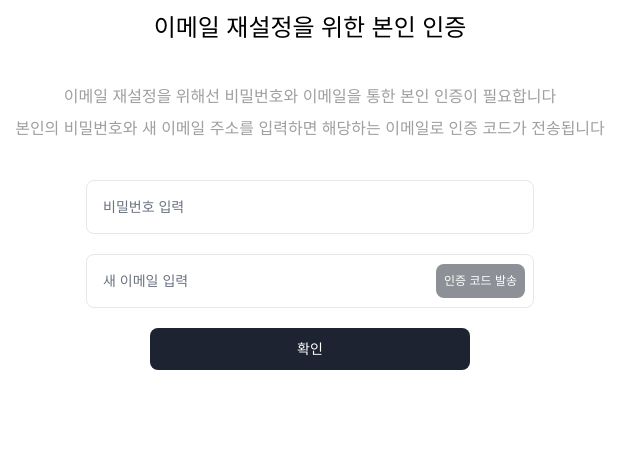
EmailSend › 재발송 잠금은 서버 쿨다운과 같은 60초다
Type "pw" into the password field with placeholder "비밀번호 입력" at (310, 207), box x1=95 y1=189 x2=525 y2=225
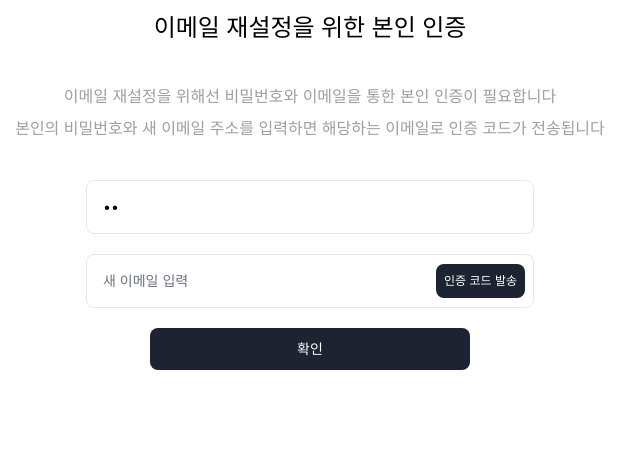
Type "a@hufs.ac.kr" into the field with placeholder "새 이메일 입력" at (262, 281), box x1=95 y1=263 x2=428 y2=299
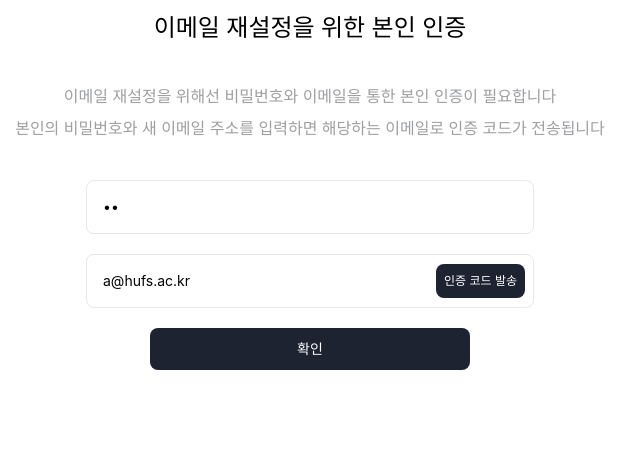
Click the button "인증 코드 발송" at (480, 281), box x1=436 y1=264 x2=525 y2=298
Wait 1000 ms
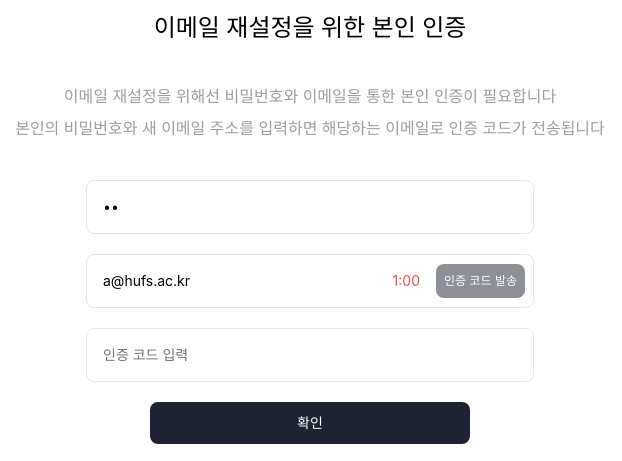
Expected: the text "1:00" is shown, x1=393 y1=271 x2=420 y2=291
